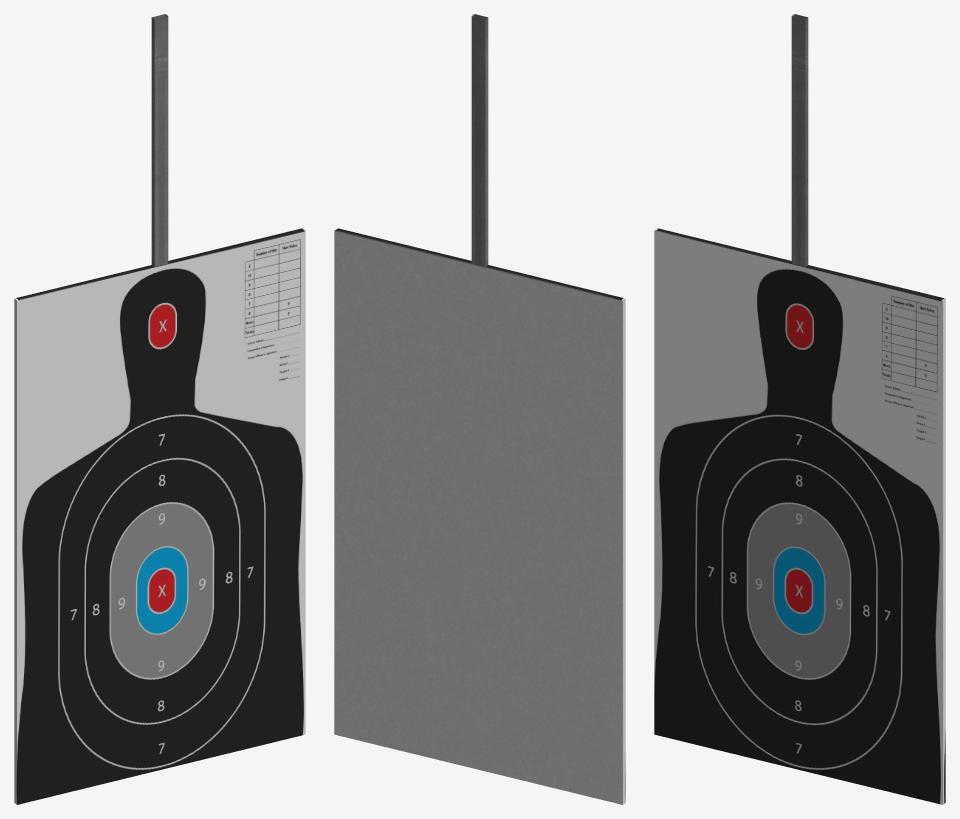
File: AIM.fbx
The picture shows the model from 3 angles, left to right: view 1: azimuth 30°, elevation 25°; view 2: azimuth 150°, elevation 25°; view 3: azimuth 330°, elevation 25°; orthographic projection.
Visible parts, largest first — view 1: AIM; view 2: AIM; view 3: AIM.
Part boxes in pixels (<box>): AIM: <box>14,14,305,804</box>; AIM: <box>334,14,625,804</box>; AIM: <box>654,14,945,804</box>.
Size of the model in its own units: 69.08 by 172 by 1.19.
